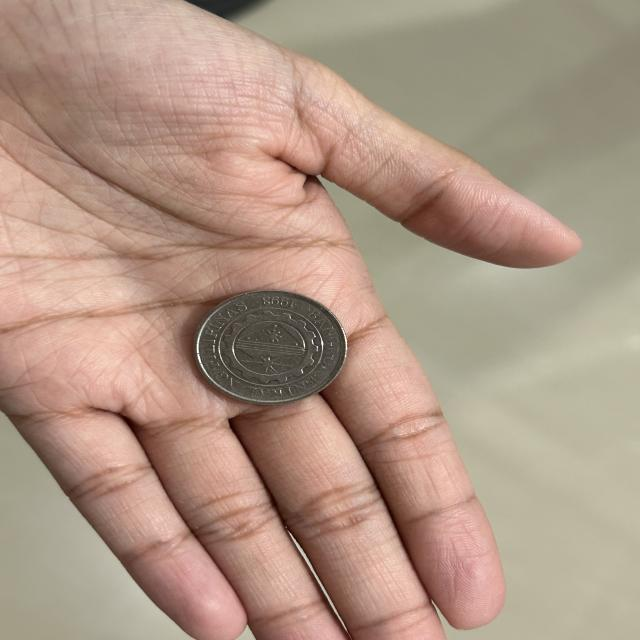1_Old_Back: (217, 304, 326, 390)
